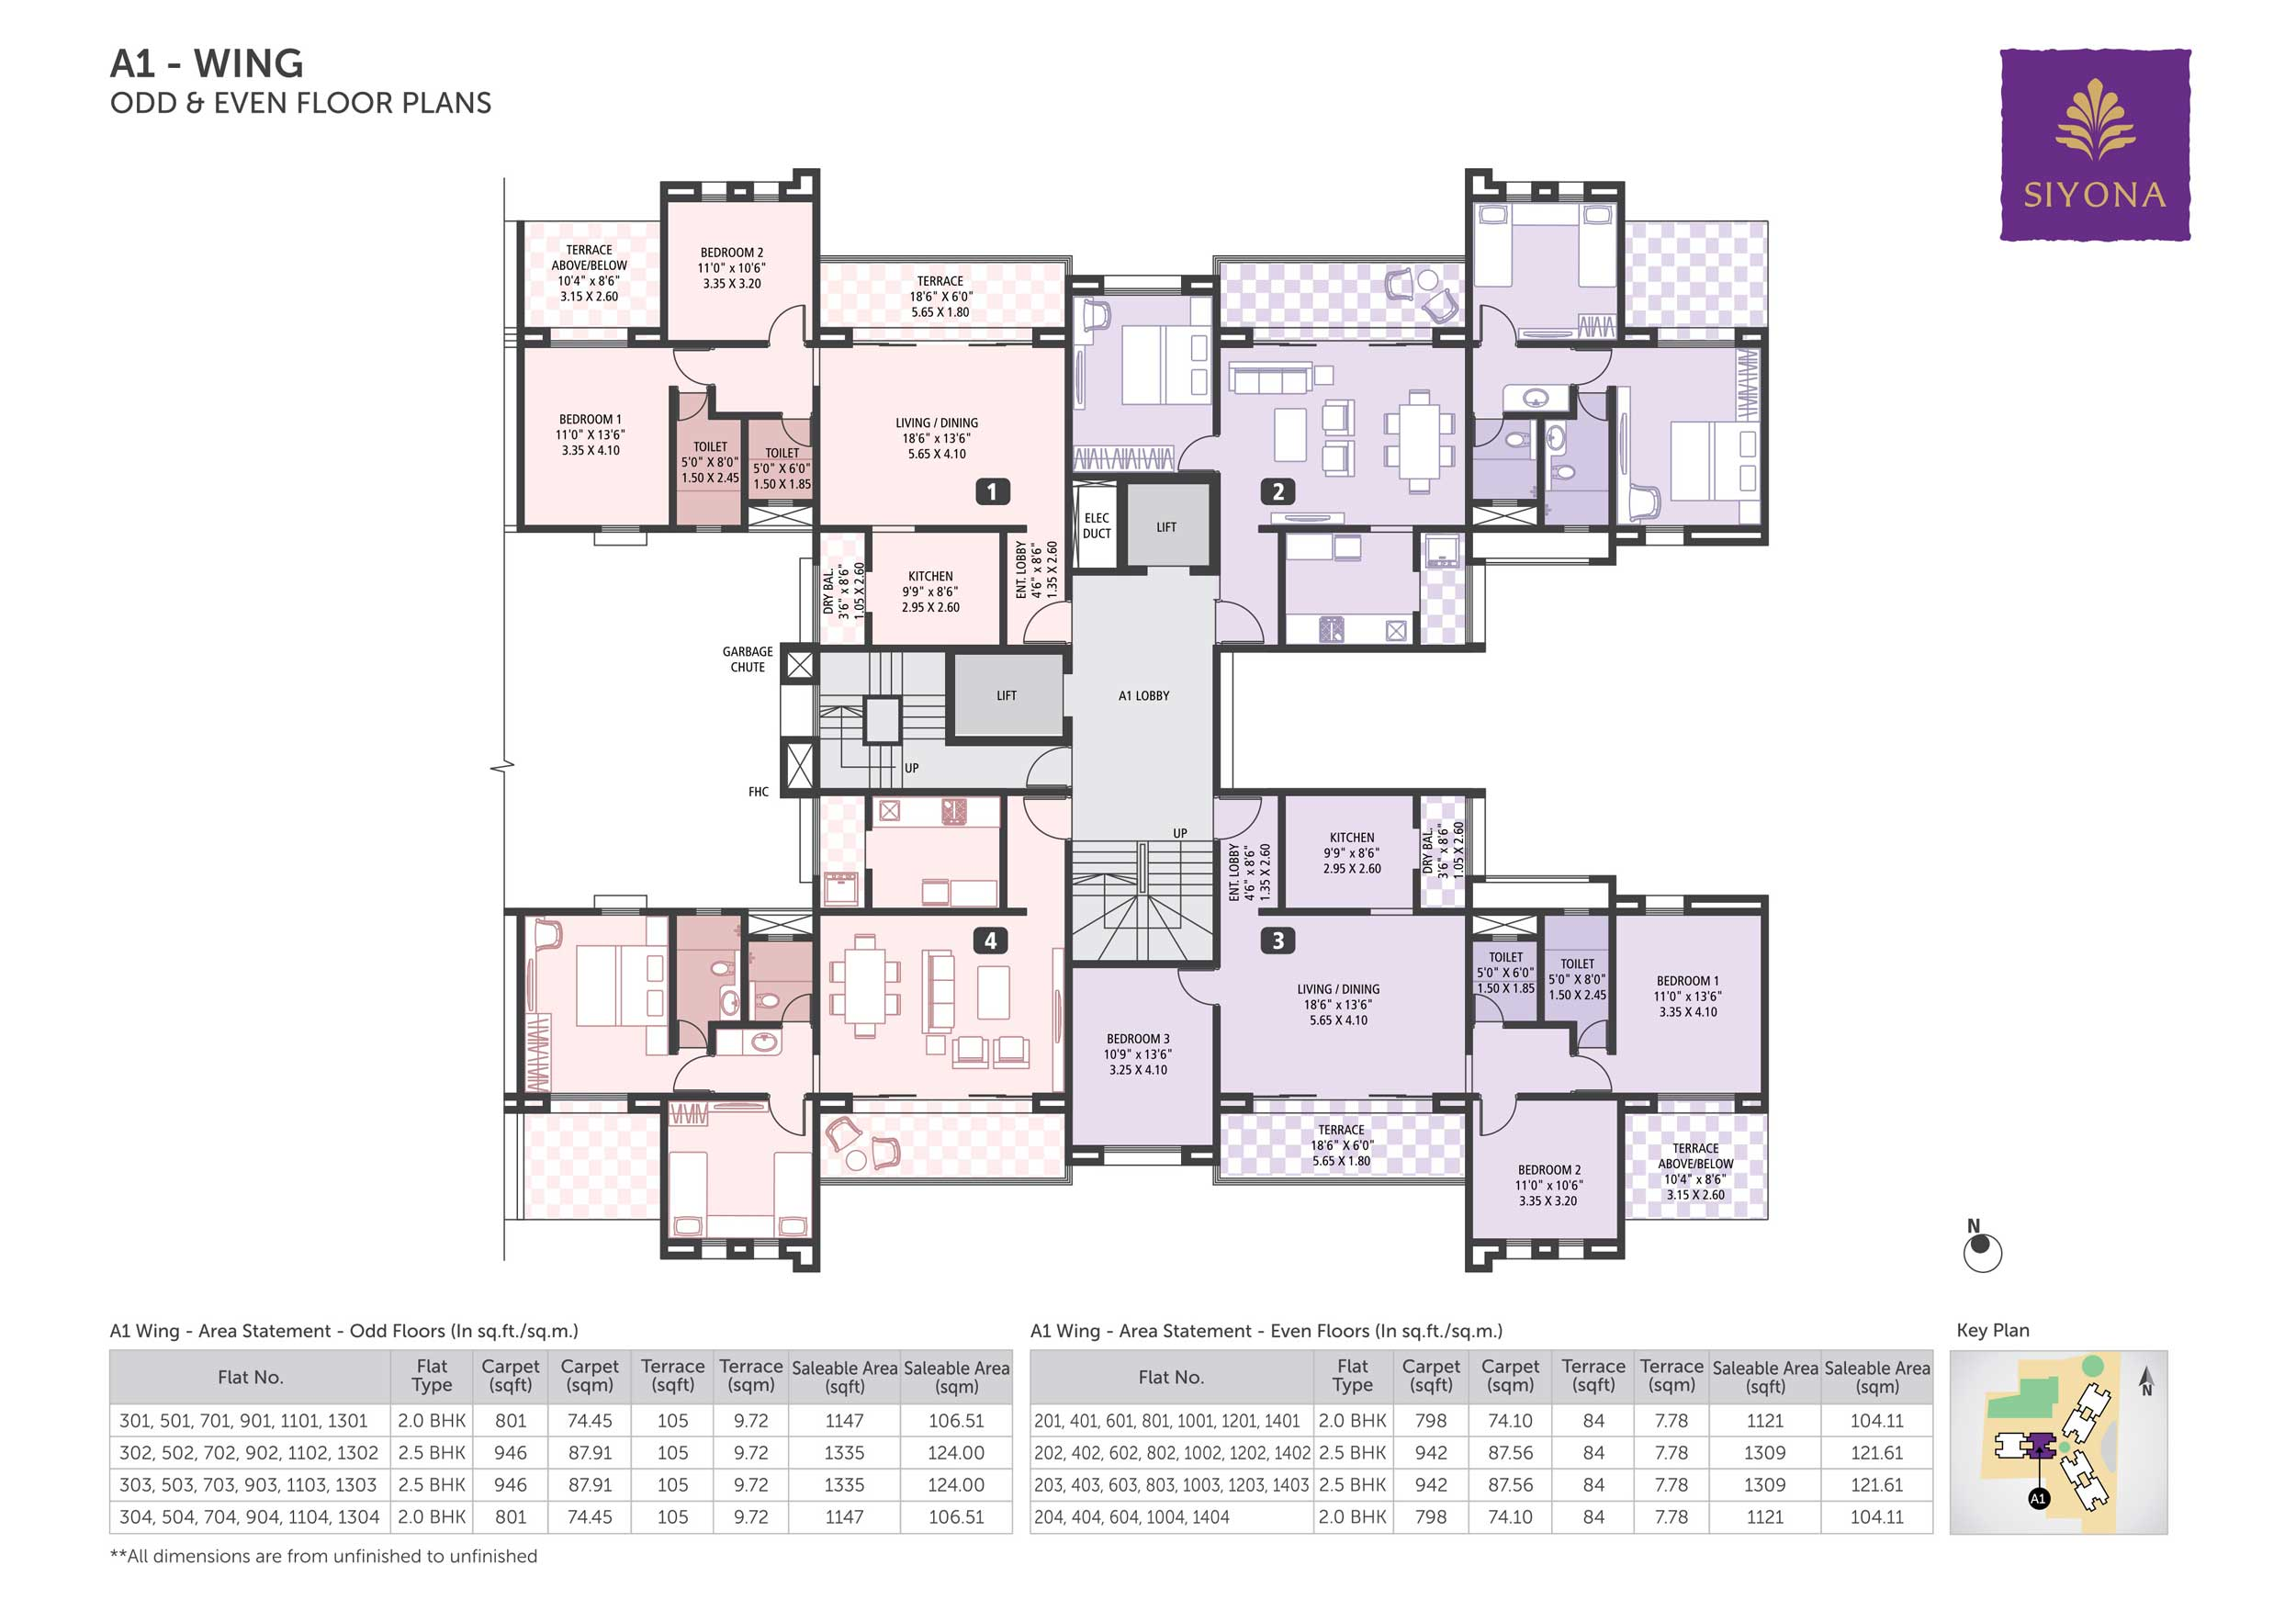door: (1019, 798, 1064, 840), (1221, 600, 1265, 642), (1221, 796, 1265, 838), (1019, 600, 1063, 642), (1019, 749, 1064, 787), (762, 302, 810, 335), (1174, 967, 1213, 1007), (1478, 302, 1514, 340), (1579, 1056, 1616, 1093), (670, 1056, 708, 1091), (1577, 347, 1616, 382), (672, 349, 708, 384), (1479, 1101, 1516, 1136), (768, 1105, 806, 1138), (1176, 435, 1211, 470), (1577, 394, 1609, 424), (1473, 419, 1502, 449), (780, 991, 811, 1019), (677, 394, 707, 422), (677, 1016, 707, 1044), (1473, 991, 1500, 1021), (1579, 1019, 1609, 1045), (785, 421, 811, 449)
